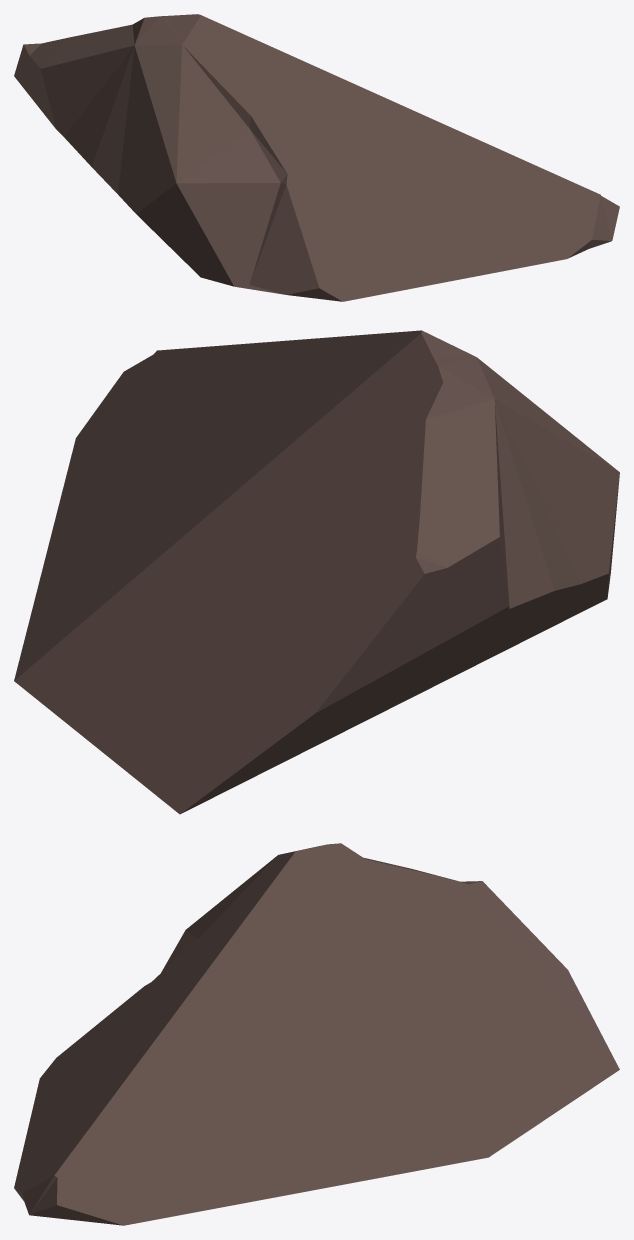
The model's file is Cliff shard 3.fbx.
The picture shows the model from 3 angles, top to bottom: view 1: azimuth 30°, elevation 25°; view 2: azimuth 150°, elevation 25°; view 3: azimuth 270°, elevation 25°; orthographic projection. The views are drawn at different scales.
Parts seen in each view (by area): view 1: Cliff shard 3; view 2: Cliff shard 3; view 3: Cliff shard 3.
Part boxes in pixels (left/top/right/bottom): Cliff shard 3: left=14, top=14, right=619, bottom=301; Cliff shard 3: left=14, top=330, right=619, bottom=814; Cliff shard 3: left=14, top=843, right=619, bottom=1225.
Bounding box in the file's own units: 1.03 × 0.4891 × 1.24.
